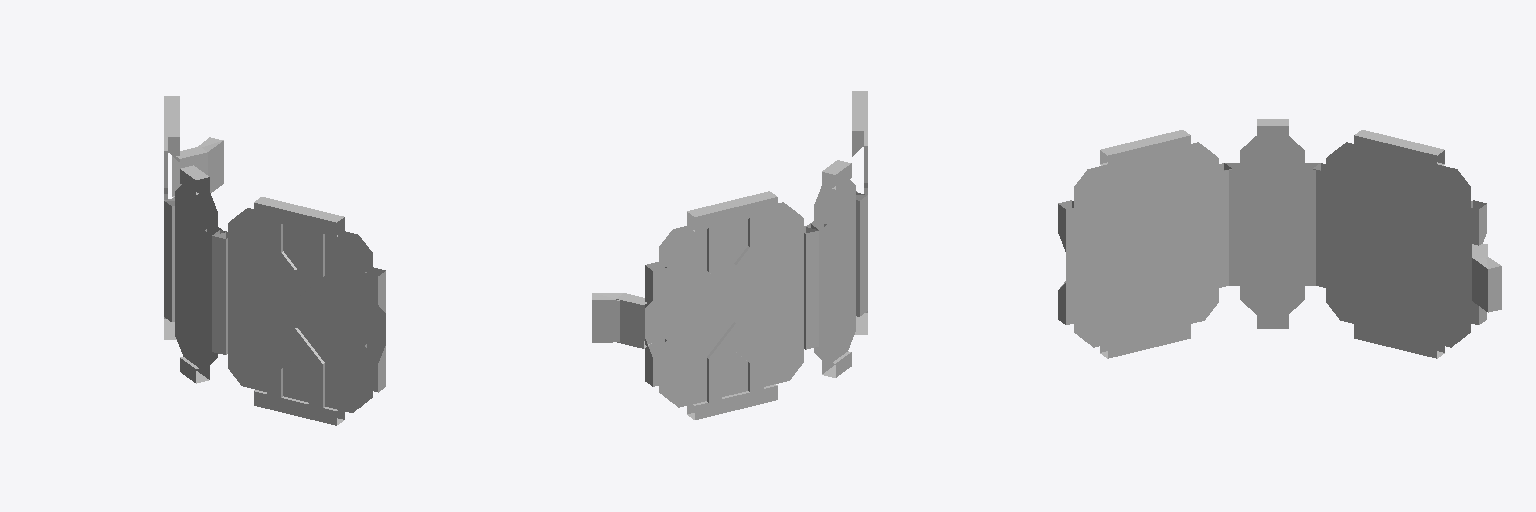
Rendered from rotebook_open_tint.obj.
3 renders of one model, left to right at view 1: azimuth 30°, elevation 25°; view 2: azimuth 150°, elevation 25°; view 3: azimuth 270°, elevation 25°, orthographic.
Visible parts, largest first — view 1: COVER_FRONT_VAR3_OPEN_Cube.131, SPINE_VAR3_OPEN_Cube.133, STRAP_VAR3_OPEN_Cube.140, COVER_BACK_VAR3_OPEN_Cube.138; view 2: COVER_BACK_VAR3_OPEN_Cube.138, SPINE_VAR3_OPEN_Cube.133, STRAP_VAR3_OPEN_Cube.140, COVER_FRONT_VAR3_OPEN_Cube.131; view 3: COVER_FRONT_VAR3_OPEN_Cube.131, COVER_BACK_VAR3_OPEN_Cube.138, SPINE_VAR3_OPEN_Cube.133, STRAP_VAR3_OPEN_Cube.140.
Boxes of the visible parts, x1=… form: COVER_FRONT_VAR3_OPEN_Cube.131: x1=212, y1=197, x2=385, y2=425; SPINE_VAR3_OPEN_Cube.133: x1=164, y1=165, x2=225, y2=383; STRAP_VAR3_OPEN_Cube.140: x1=172, y1=137, x2=223, y2=197; COVER_BACK_VAR3_OPEN_Cube.138: x1=164, y1=96, x2=179, y2=339; COVER_BACK_VAR3_OPEN_Cube.138: x1=645, y1=191, x2=818, y2=419; SPINE_VAR3_OPEN_Cube.133: x1=806, y1=160, x2=867, y2=377; STRAP_VAR3_OPEN_Cube.140: x1=592, y1=293, x2=651, y2=348; COVER_FRONT_VAR3_OPEN_Cube.131: x1=852, y1=91, x2=867, y2=334; COVER_FRONT_VAR3_OPEN_Cube.131: x1=1058, y1=130, x2=1231, y2=358; COVER_BACK_VAR3_OPEN_Cube.138: x1=1313, y1=130, x2=1486, y2=358; SPINE_VAR3_OPEN_Cube.133: x1=1224, y1=119, x2=1320, y2=328; STRAP_VAR3_OPEN_Cube.140: x1=1472, y1=244, x2=1501, y2=312.
Bounding box in the file's own units: 0.6468 × 0.875 × 1.73.